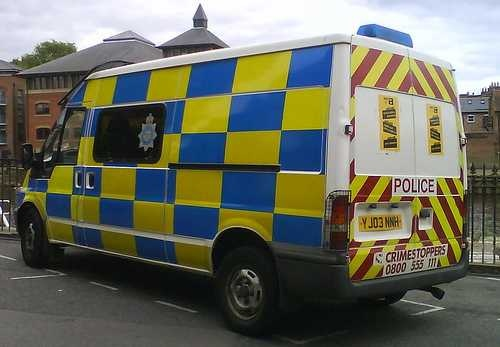Police Van: (29, 33, 468, 331)
